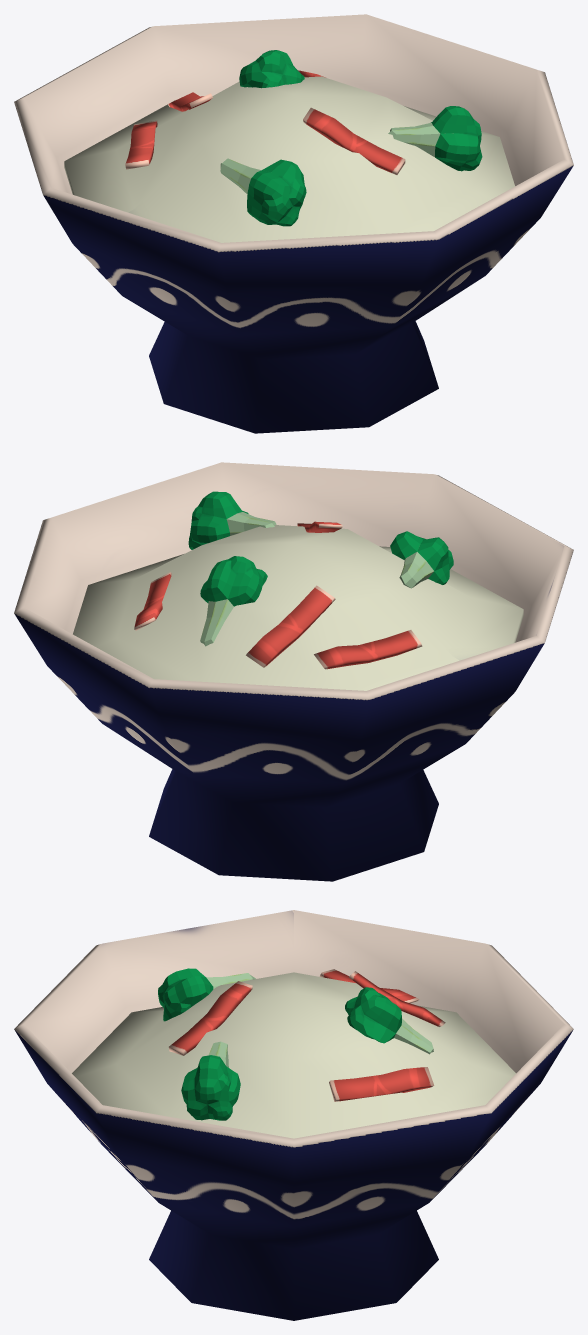
Rendered from bol_noodles_lleno.fbx.
3 renders of one model, top to bottom at view 1: azimuth 30°, elevation 25°; view 2: azimuth 150°, elevation 25°; view 3: azimuth 270°, elevation 25°, orthographic. The views are drawn at different scales.
Parts seen in each view (by area): view 1: Bol, Noodles_bol, brocoli.002, brocoli.001, Cube.003, brocoli, Cube.004; view 2: Bol, Noodles_bol, brocoli, brocoli.001, brocoli.002, Cube.002, Cube.004, Cube.001; view 3: Bol, Noodles_bol, brocoli.001, brocoli, brocoli.002, Cube.001, Cube.003, Cube.002, Cube.004.
Boxes of the visible parts, left/top/right/bottom form: Bol: left=14, top=14, right=573, bottom=433; Noodles_bol: left=64, top=76, right=514, bottom=242; brocoli.002: left=220, top=158, right=306, bottom=226; brocoli.001: left=388, top=106, right=482, bottom=171; Cube.003: left=303, top=107, right=405, bottom=174; brocoli: left=239, top=50, right=304, bottom=88; Cube.004: left=125, top=120, right=157, bottom=169; Bol: left=14, top=462, right=573, bottom=881; Noodles_bol: left=73, top=525, right=523, bottom=690; brocoli: left=200, top=556, right=267, bottom=646; brocoli.001: left=188, top=491, right=276, bottom=549; brocoli.002: left=390, top=531, right=453, bottom=588; Cube.002: left=246, top=585, right=335, bottom=667; Cube.004: left=314, top=630, right=422, bottom=669; Cube.001: left=134, top=572, right=171, bottom=630; Bol: left=14, top=910, right=573, bottom=1320; Noodles_bol: left=72, top=972, right=515, bottom=1138; brocoli.001: left=181, top=1041, right=240, bottom=1120; brocoli: left=345, top=987, right=433, bottom=1054; brocoli.002: left=158, top=968, right=255, bottom=1021; Cube.001: left=329, top=1067, right=434, bottom=1101; Cube.003: left=168, top=981, right=252, bottom=1055; Cube.002: left=349, top=971, right=445, bottom=1026; Cube.004: left=319, top=969, right=419, bottom=1003.
Bounding box in the file's own units: 1543 × 859 × 1543.
